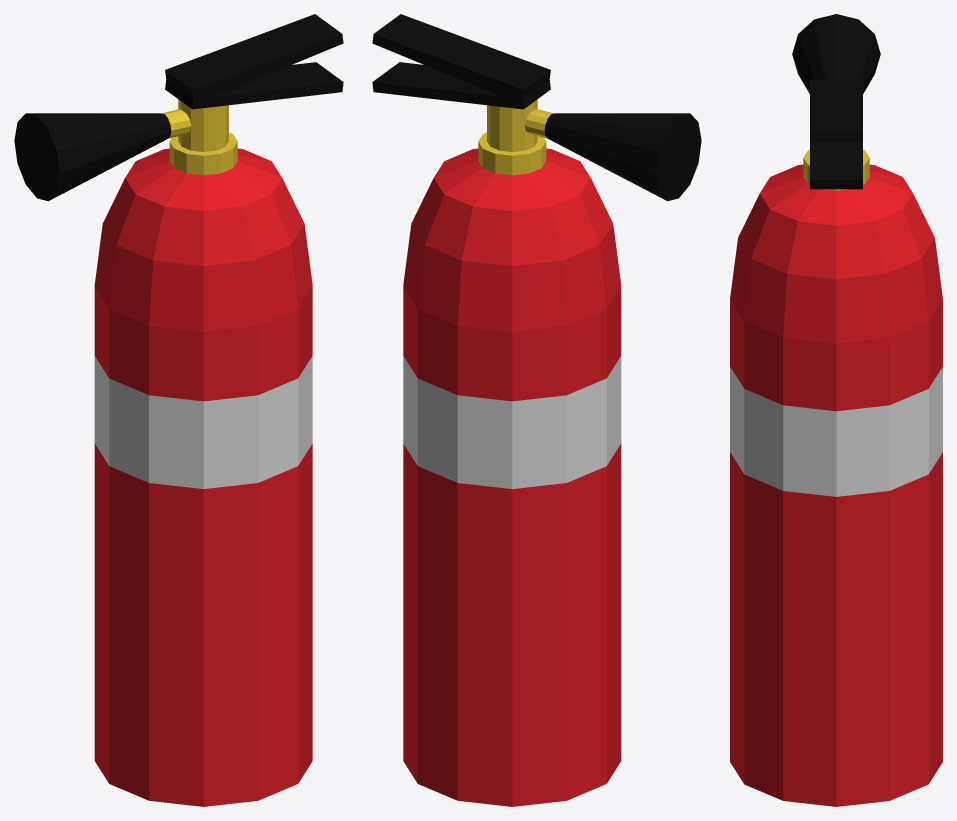
The model's file is FireExtinguisher.fbx.
3 renders of one model, left to right at view 1: azimuth 30°, elevation 25°; view 2: azimuth 150°, elevation 25°; view 3: azimuth 270°, elevation 25°, orthographic. The views are drawn at different scales.
Visible parts, largest first — view 1: Container, Handle, Nozzle; view 2: Container, Handle, Nozzle; view 3: Container, Handle, Nozzle.
Boxes of the visible parts, x1,y1,x2,y2 form: Container: (94,99,312,806); Handle: (165,14,343,109); Nozzle: (14,109,191,201); Container: (403,99,621,806); Handle: (372,14,550,109); Nozzle: (524,109,701,201); Container: (730,150,942,806); Handle: (810,79,862,189); Nozzle: (792,14,880,93).
Bounding box in the file's own units: 15.49 × 35.71 × 10.
